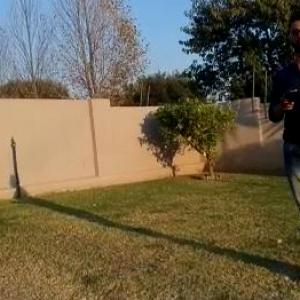follow: (257, 4, 299, 295)
